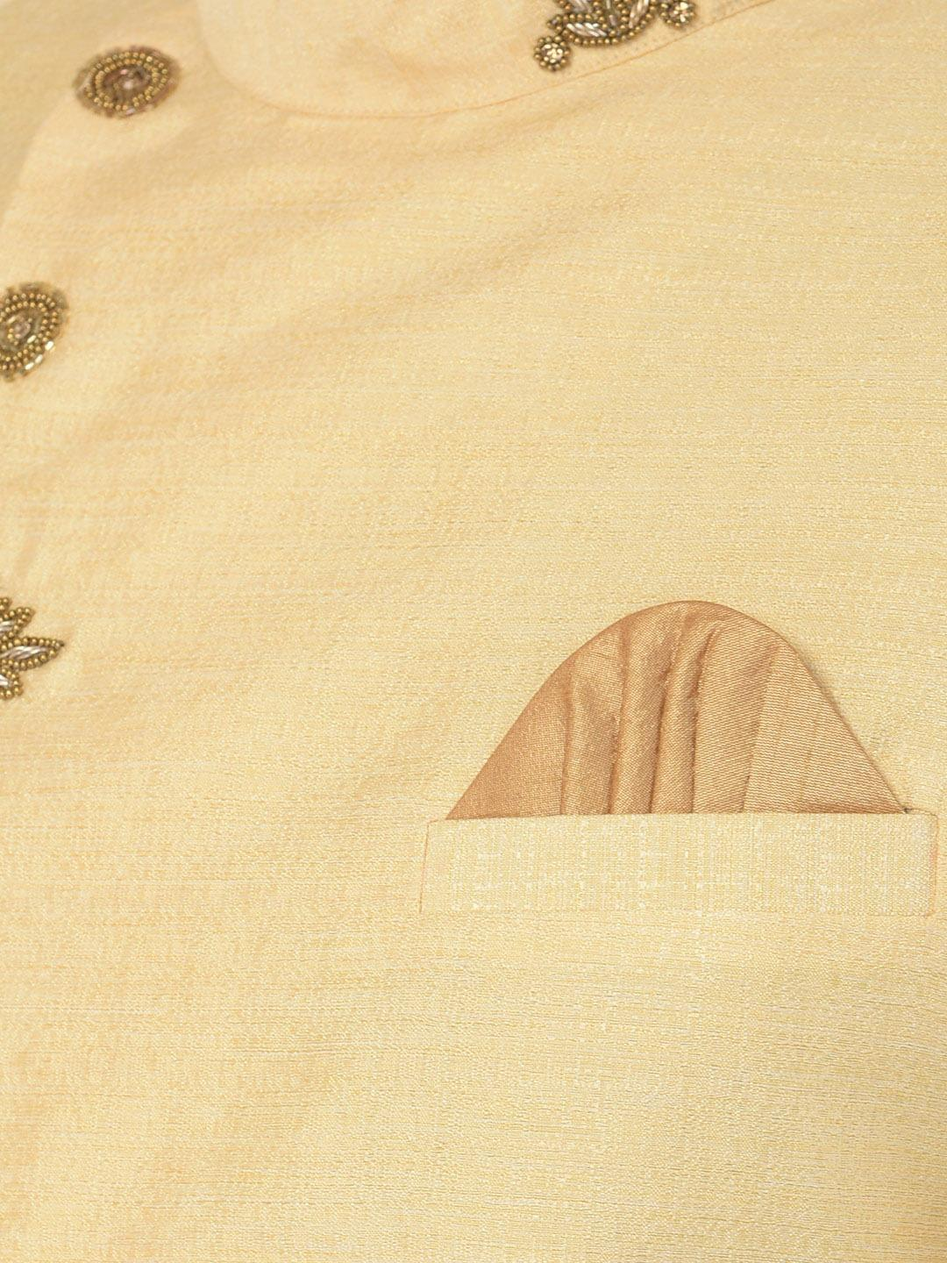Plain Sherwani: (4, 2, 945, 1255)
